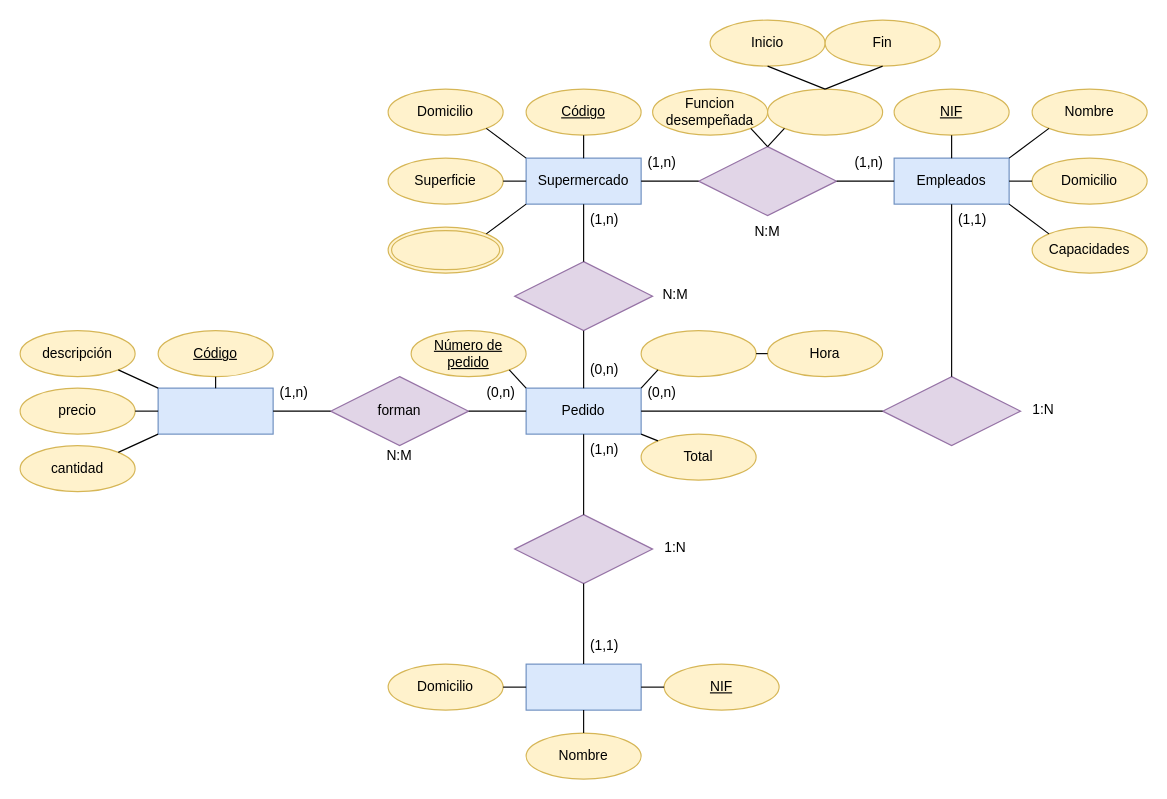
The diagram is 1167 pixels wide and 799 high, and some of its shapes have lost their labels. Here are the shapes that lost their labels. From the top down, the centre of each, then its label:
(824,111): Fecha de función
(767,180): trabajan
(445,249): Teléfono
(583,295): sirven
(698,353): Fecha
(215,410): Artículo
(951,410): Entregan
(583,548): recibe
(583,686): Cliente
